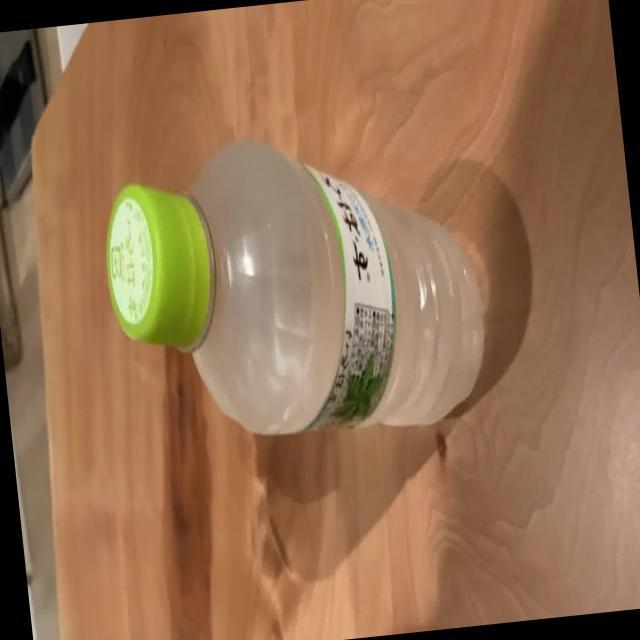good: (89, 111, 496, 465)
